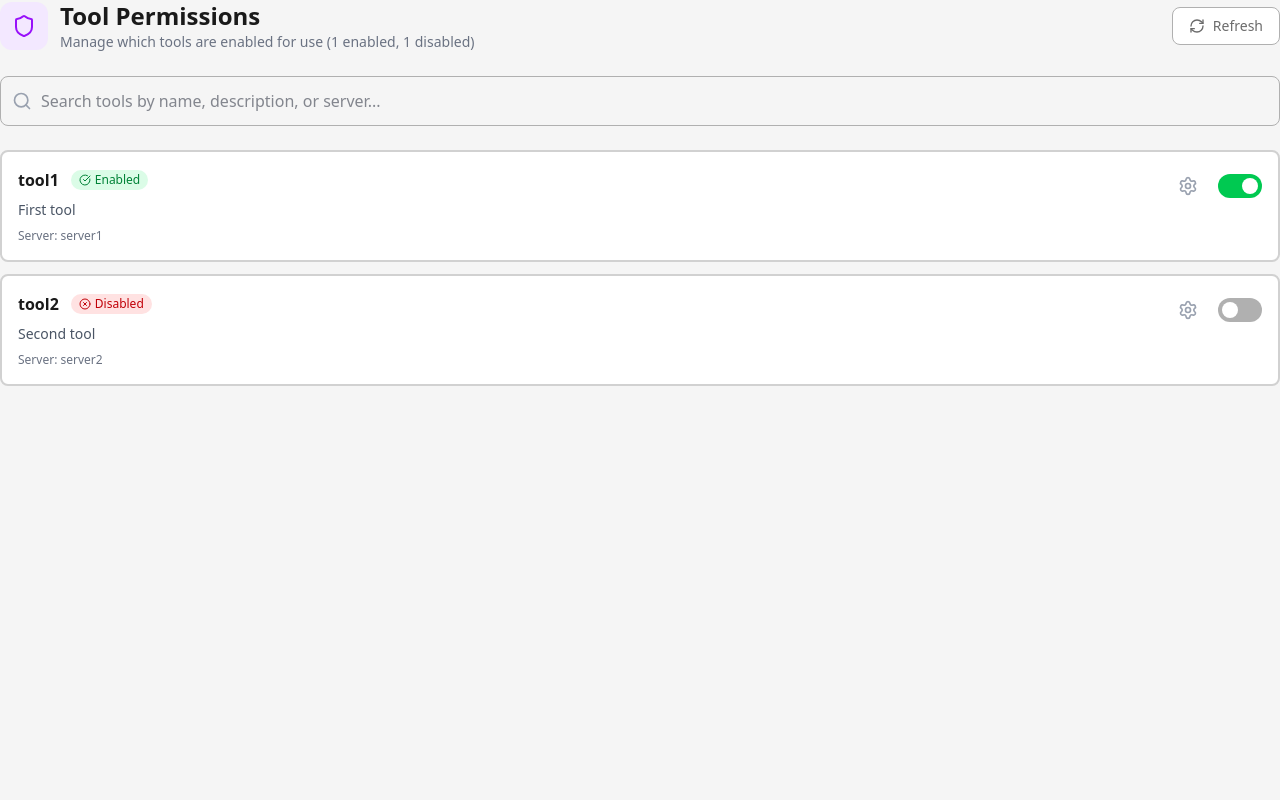
Test: ToolPermissionsManager › should open config modal on config button click
What coordinates should you click on to do the following:
click the button with test id "config-button-tool1"
I would click on:
 (1188, 186)
Its box is [1170,168,1206,204].
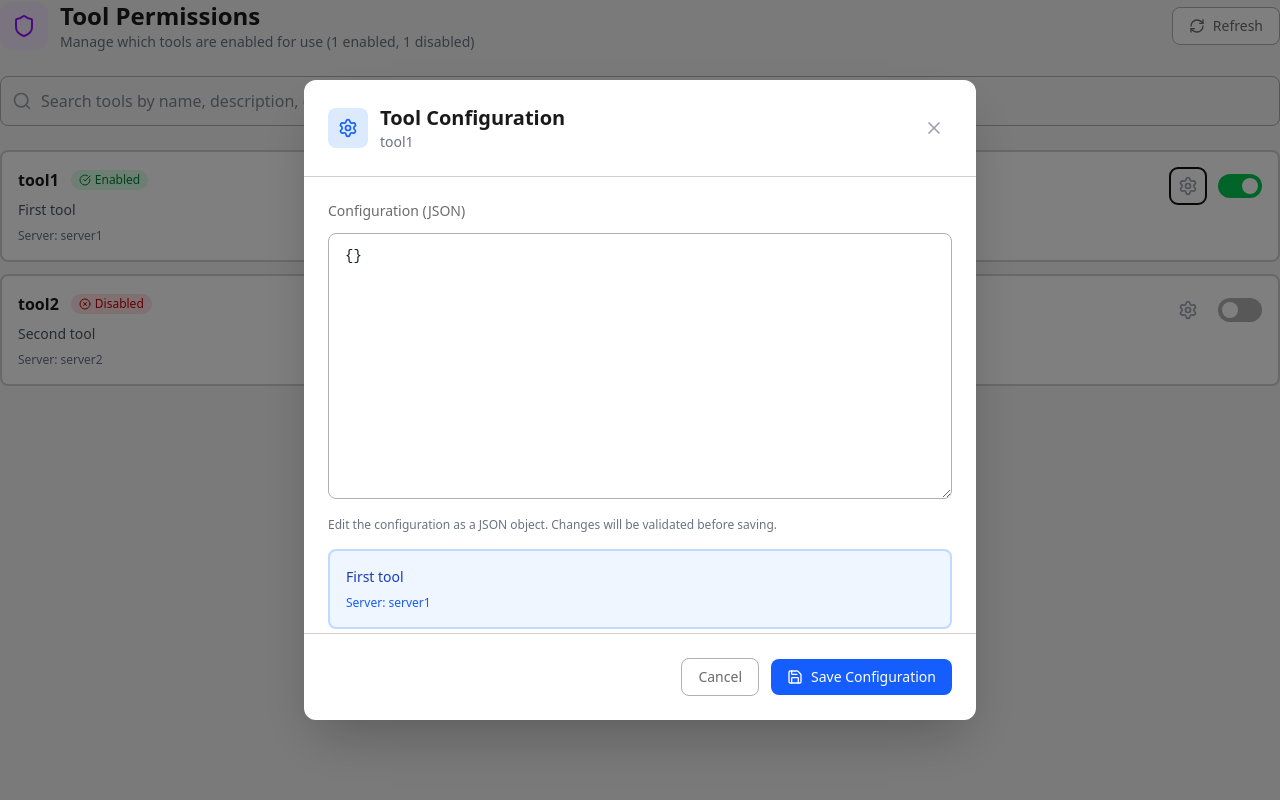
Now the element with test id "tool-config-modal" is shown
